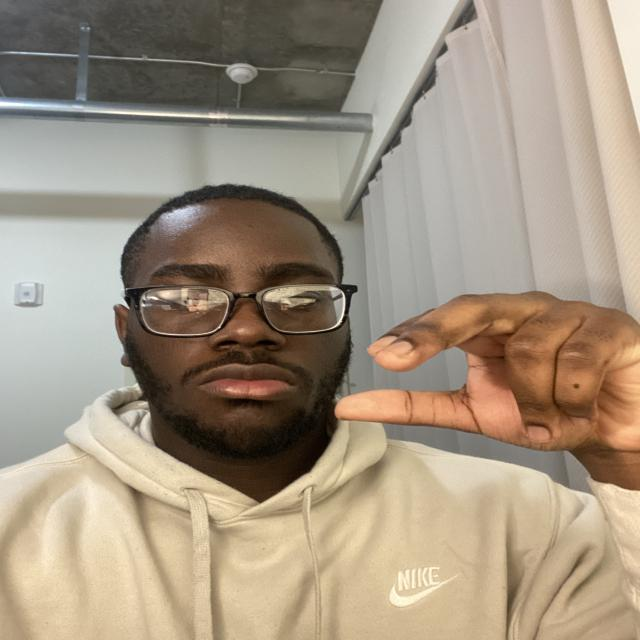No: (284, 250, 594, 502)
